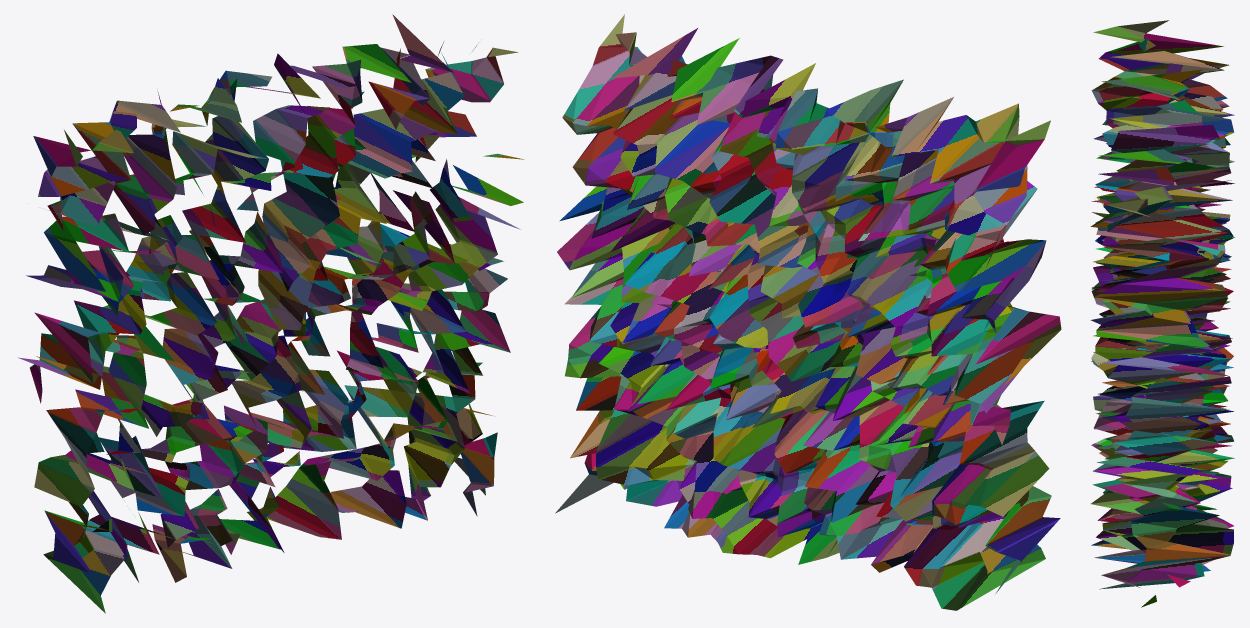
3 renders of one model, left to right at view 1: azimuth 30°, elevation 25°; view 2: azimuth 150°, elevation 25°; view 3: azimuth 270°, elevation 25°, orthographic. The views are drawn at different scales.
Visible parts, largest first — view 1: geometry_0; view 2: geometry_0; view 3: geometry_0.
Boxes of the visible parts, x1,y1,x2,y2 form: geometry_0: (18, 14, 524, 613); geometry_0: (555, 14, 1061, 610); geometry_0: (1090, 20, 1234, 607).
Bounding box in the file's own units: 310 × 310 × 99.75.
Materials: 1 (1 with a texture image).
